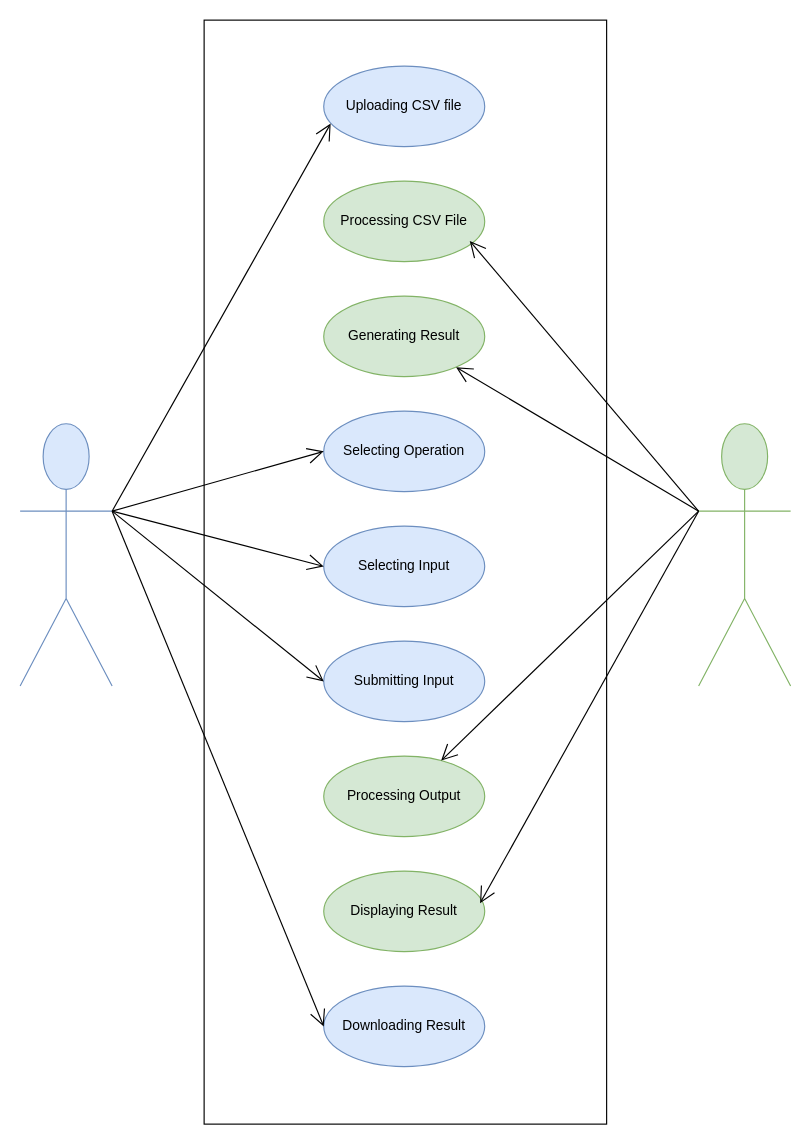
Some shapes in this 811 by 1144 pixel diagram are drawn without their labels. The box of each missing label's shape, as (x1, y1, x2, y2) in pixels:
System: (697, 423, 791, 686)
User: (19, 423, 112, 686)
